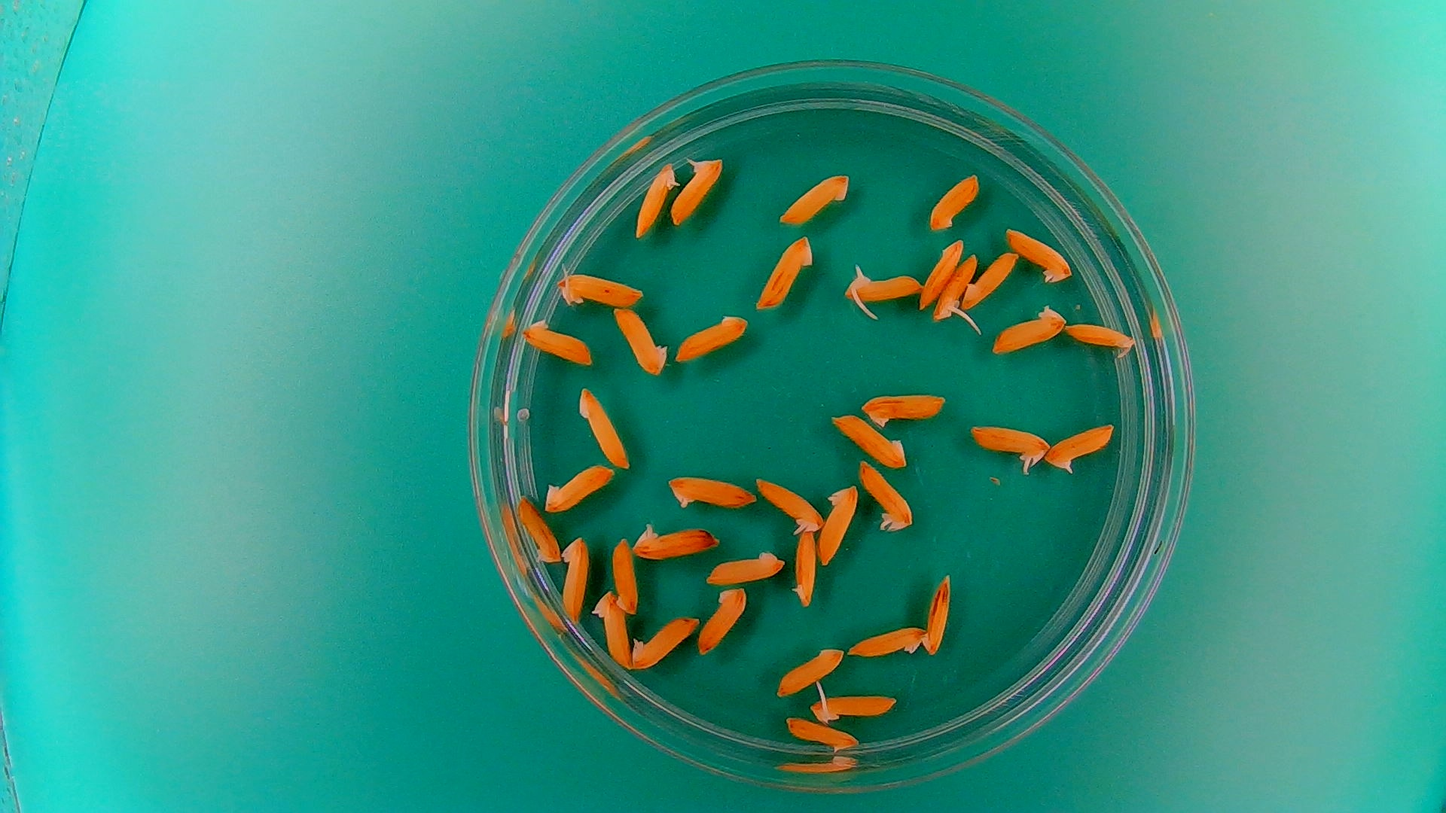no: (752, 232, 816, 312), (576, 384, 630, 471), (830, 410, 908, 469), (775, 169, 853, 227), (673, 310, 752, 364), (662, 469, 758, 513), (776, 708, 862, 757), (1003, 224, 1075, 282), (612, 304, 670, 376), (859, 387, 952, 430), (992, 301, 1066, 355), (519, 315, 595, 367), (775, 644, 846, 699), (816, 481, 861, 567), (695, 584, 748, 657), (541, 461, 615, 513), (959, 248, 1019, 310), (700, 545, 787, 586), (514, 493, 562, 566), (926, 170, 981, 231), (918, 237, 963, 306), (844, 623, 925, 659), (923, 571, 956, 659), (559, 531, 590, 623), (611, 532, 641, 616)
yes: (856, 457, 917, 534), (966, 418, 1051, 473), (752, 473, 825, 534), (669, 151, 724, 227), (629, 611, 700, 669), (1044, 421, 1117, 476), (553, 267, 646, 309), (629, 519, 721, 561), (633, 160, 680, 239), (842, 263, 923, 308), (590, 586, 633, 670), (932, 252, 978, 324), (1063, 320, 1137, 361), (809, 692, 900, 725), (791, 525, 818, 607)
